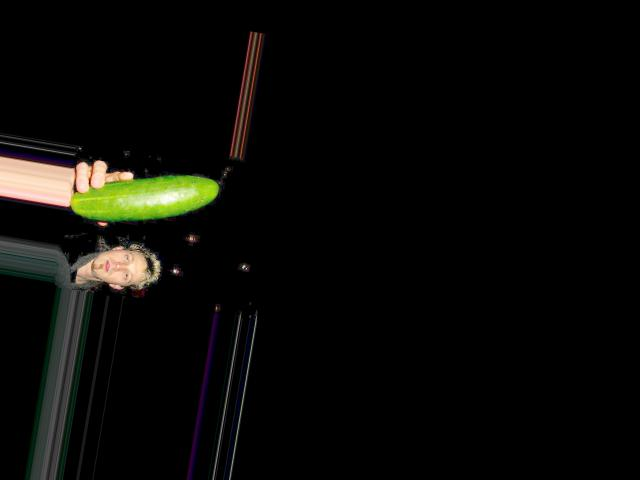cucumber: (70, 156, 219, 237)
